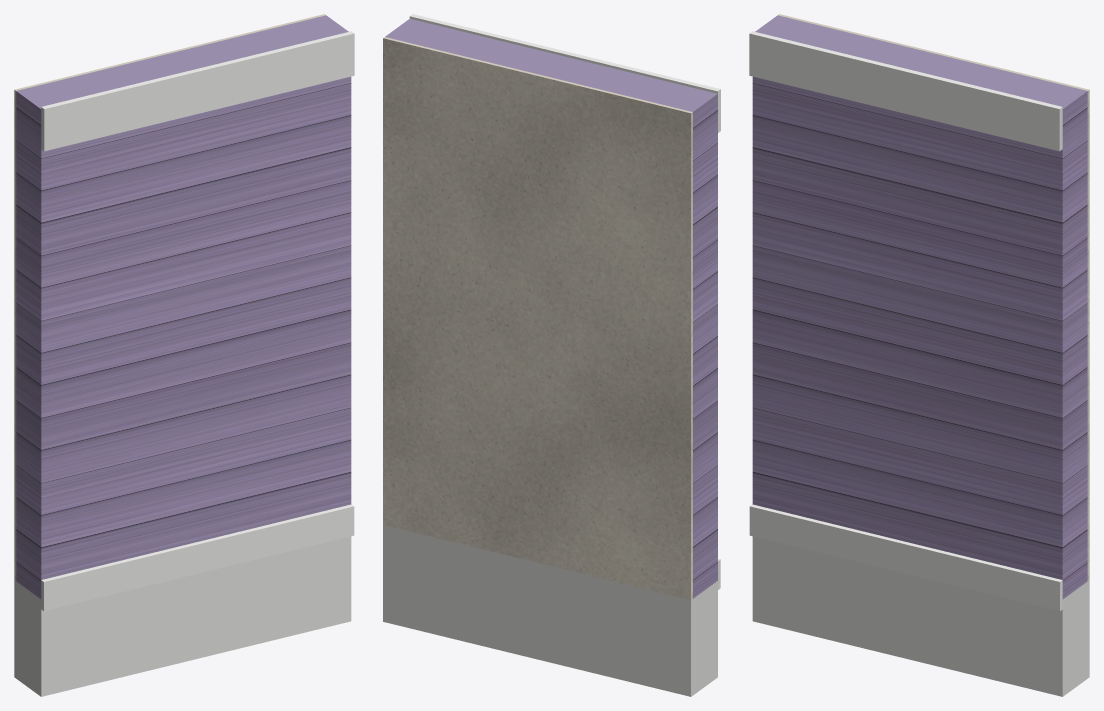
Rendered from wall_d_plain.glb.
The picture shows the model from 3 angles, left to right: view 1: azimuth 30°, elevation 25°; view 2: azimuth 150°, elevation 25°; view 3: azimuth 330°, elevation 25°; orthographic projection.
Visible parts, largest first — view 1: wall_d_plain_siding_d, wall_d_plain_lattice, wall_d_plain_trim, wall_d_plain_plaster; view 2: wall_d_plain_plaster, wall_d_plain_lattice, wall_d_plain_siding_d, wall_d_plain_trim; view 3: wall_d_plain_siding_d, wall_d_plain_lattice, wall_d_plain_trim, wall_d_plain_plaster.
Part boxes in pixels (box(x1,y1,x2,y2)): wall_d_plain_siding_d: box(16, 15, 351, 599); wall_d_plain_lattice: box(14, 536, 351, 696); wall_d_plain_trim: box(41, 31, 354, 611); wall_d_plain_plaster: box(14, 14, 325, 580); wall_d_plain_plaster: box(383, 37, 692, 599); wall_d_plain_lattice: box(383, 525, 717, 696); wall_d_plain_siding_d: box(385, 19, 717, 598); wall_d_plain_trim: box(409, 14, 720, 589); wall_d_plain_siding_d: box(752, 15, 1087, 599); wall_d_plain_lattice: box(752, 536, 1089, 696); wall_d_plain_trim: box(749, 31, 1062, 611); wall_d_plain_plaster: box(778, 14, 1089, 580).
Bounding box in the file's own units: 2 × 3.63 × 0.335.
4 materials, 2 textured.
